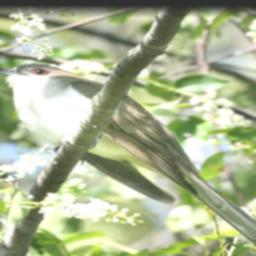Cuckoo: (0, 61, 256, 256)
